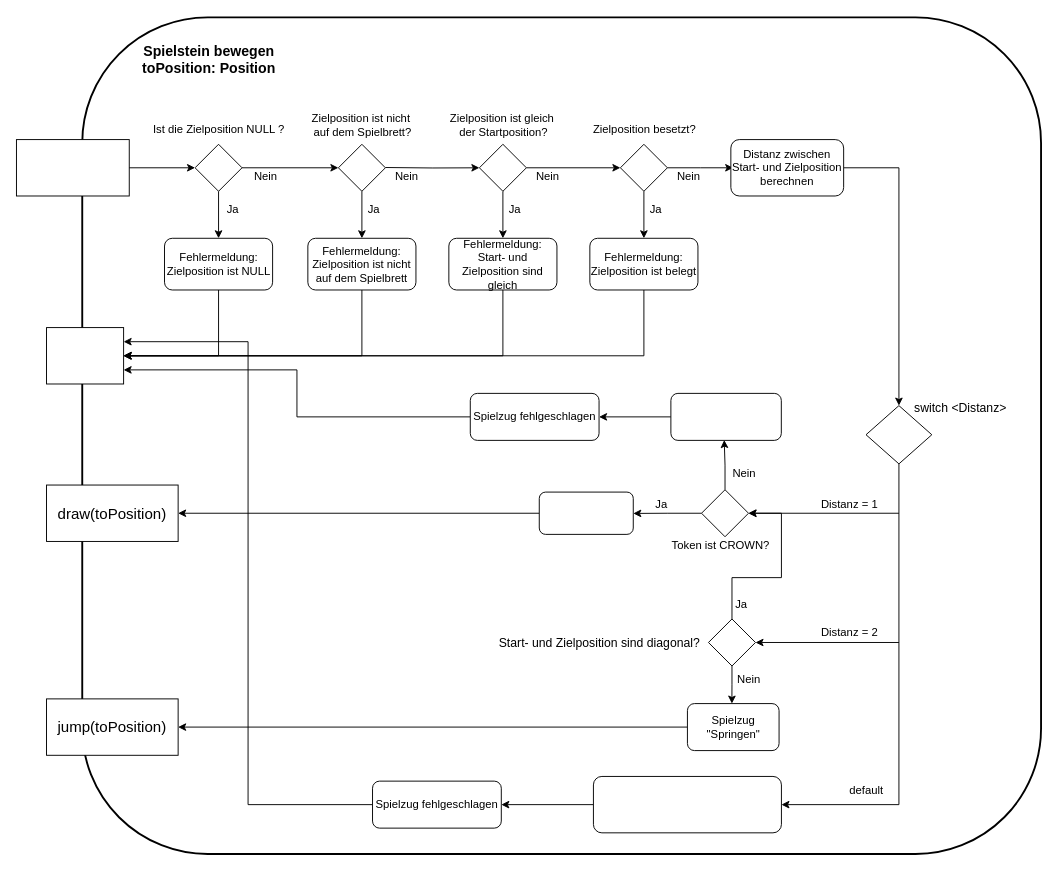
The diagram is 1058 pixels wide and 870 high, and some of its shapes have lost their labels. The centre of each missing label's shape, as x and y in pixels:
false: the point at 85,355
Fehlermeldung: Nur CROWN darf ziehen: the point at 725,416
Fehlermeldung: Token kann nicht <Distanz> weit bewegt werden: the point at 686,804
Spielzug "Ziehen": the point at 585,512
toPosition: the point at 72,167
